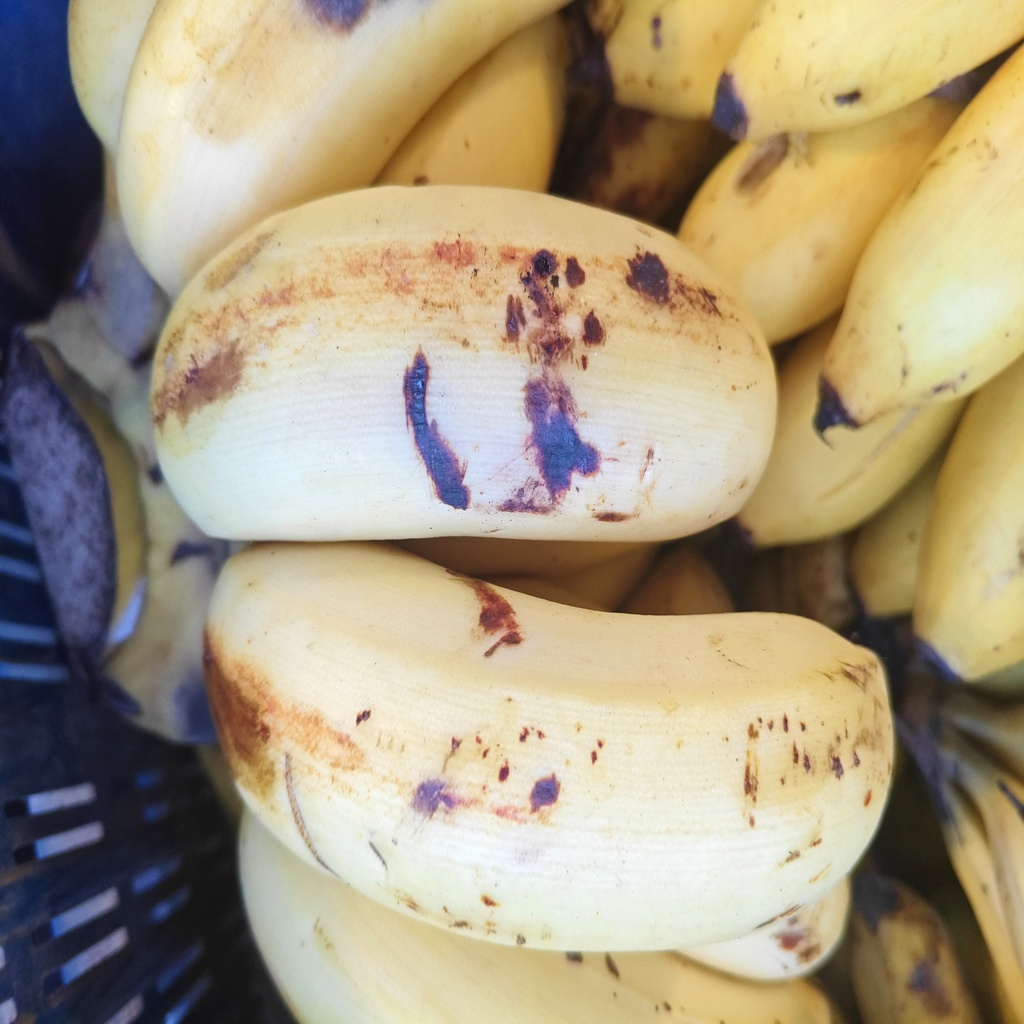healthy: (209, 543, 895, 953), (153, 184, 779, 541)
